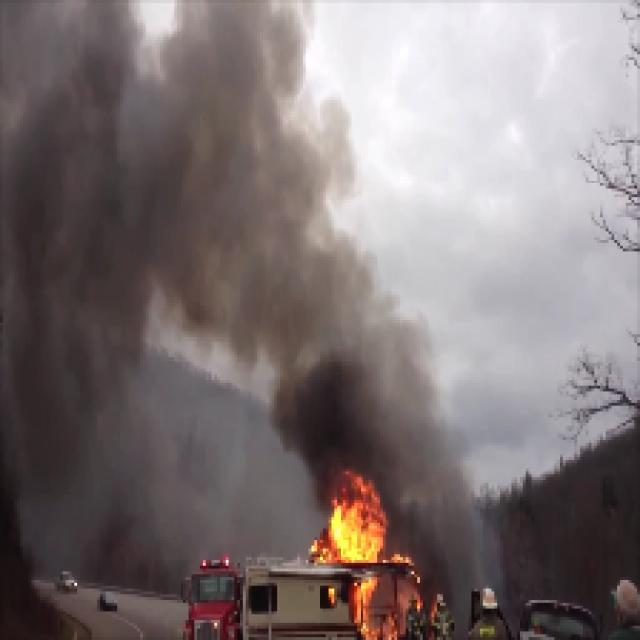smoke: (7, 7, 322, 330), (279, 336, 438, 450)
